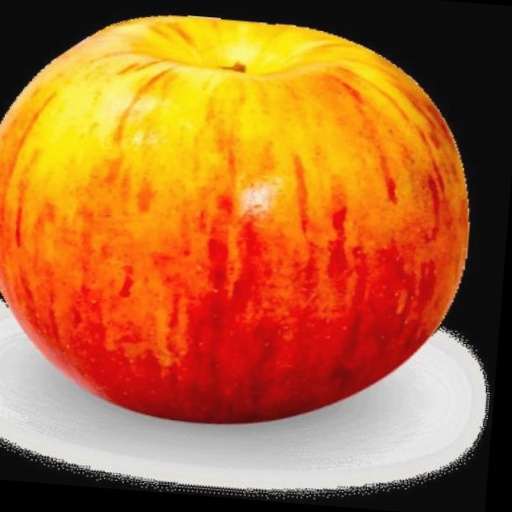fruit: (0, 17, 467, 422)
